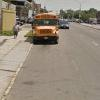Bus: (27, 9, 60, 49)
